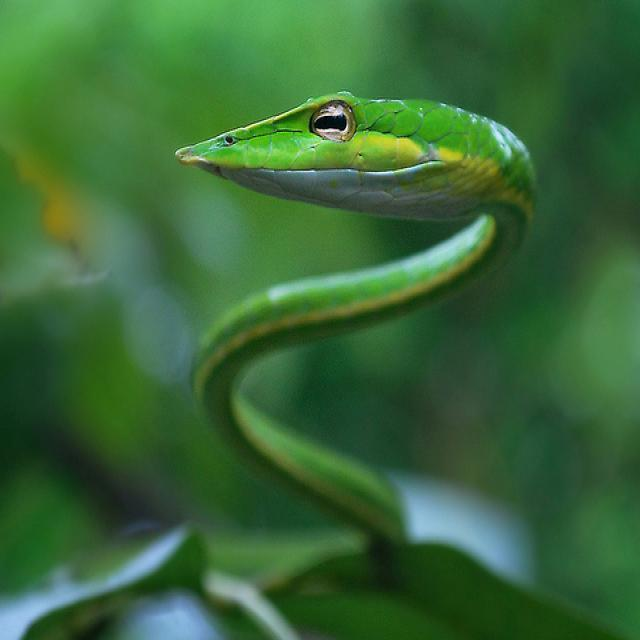Snake: (173, 86, 538, 554)
